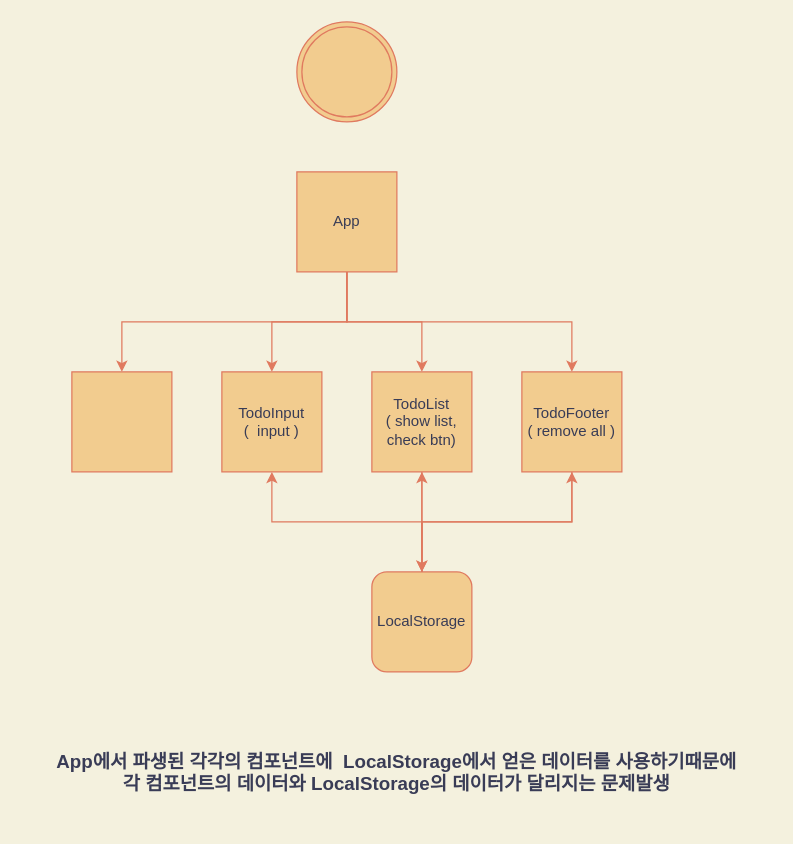
The diagram is 793 pixels wide and 844 high, and some of its shapes have lost their labels. Each missing label, with the centre of its shape:
"TodoHeader" belongs at (x=121, y=421).
"기존코드 구조도" belongs at (x=346, y=71).
